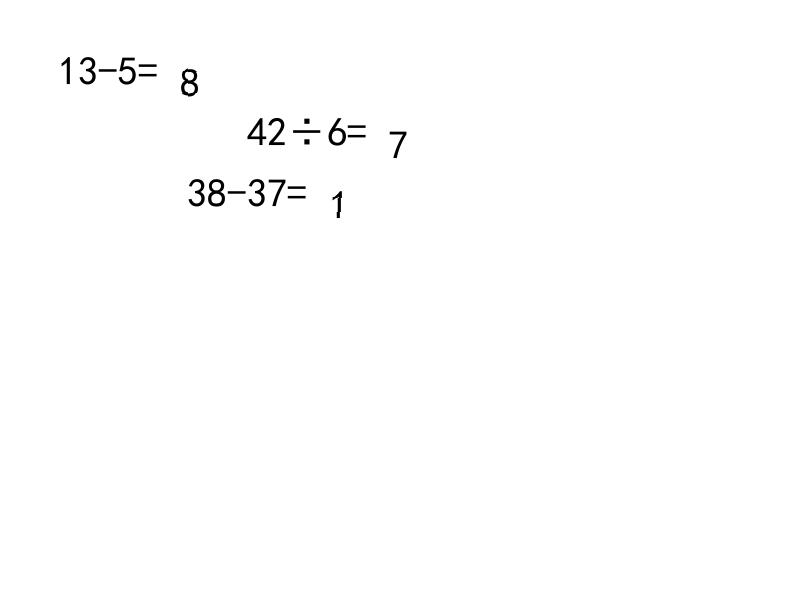-: (98, 50, 118, 79), (227, 172, 247, 201)
1: (58, 50, 78, 79), (317, 172, 337, 201)
2: (267, 111, 287, 140)
3: (78, 50, 98, 79), (187, 172, 207, 201), (247, 172, 267, 201)
4: (247, 111, 267, 140)
5: (118, 50, 138, 79)
6: (327, 111, 347, 140)
7: (377, 111, 397, 140), (267, 172, 287, 201)
8: (168, 50, 188, 79), (207, 172, 227, 201)
=: (138, 50, 158, 79), (347, 111, 367, 140), (287, 172, 307, 201)
÷: (287, 111, 327, 140)
